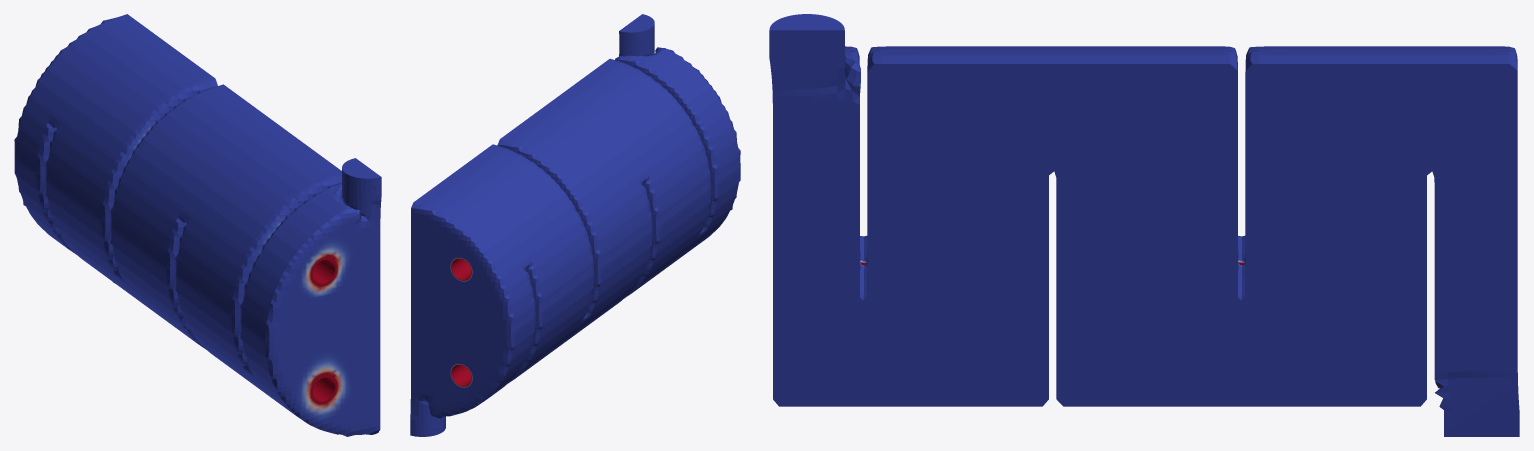
The model's file is Shape_IndexedFaceSetreference_velocity.py_timestep1_.fbx.
3 renders of one model, left to right at view 1: azimuth 30°, elevation 25°; view 2: azimuth 150°, elevation 25°; view 3: azimuth 270°, elevation 25°, orthographic. The views are drawn at different scales.
Parts seen in each view (by area): view 1: Shape_IndexedFaceSet; view 2: Shape_IndexedFaceSet; view 3: Shape_IndexedFaceSet.
Part boxes in pixels (<box>): Shape_IndexedFaceSet: <box>14,14,381,436</box>; Shape_IndexedFaceSet: <box>410,14,740,436</box>; Shape_IndexedFaceSet: <box>769,14,1519,436</box>.
Bounding box in the file's own units: 25.48 × 59.33 × 99.2.
